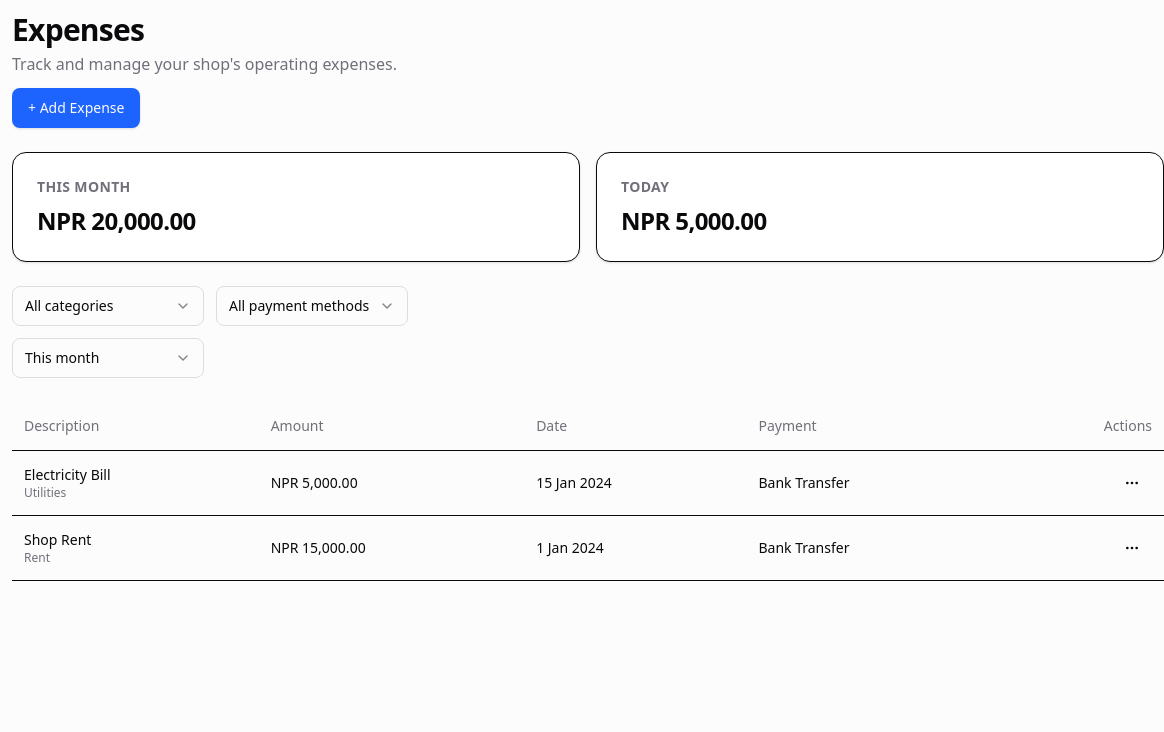
ExpensesPage › Clear Filters button appears when filters are active
The width and height of the screenshot is (1164, 732).
Expected: the text "Electricity Bill" is shown, [24, 464, 111, 484]
Click the dropdown named "Category" at [108, 306], box [12, 286, 204, 326]
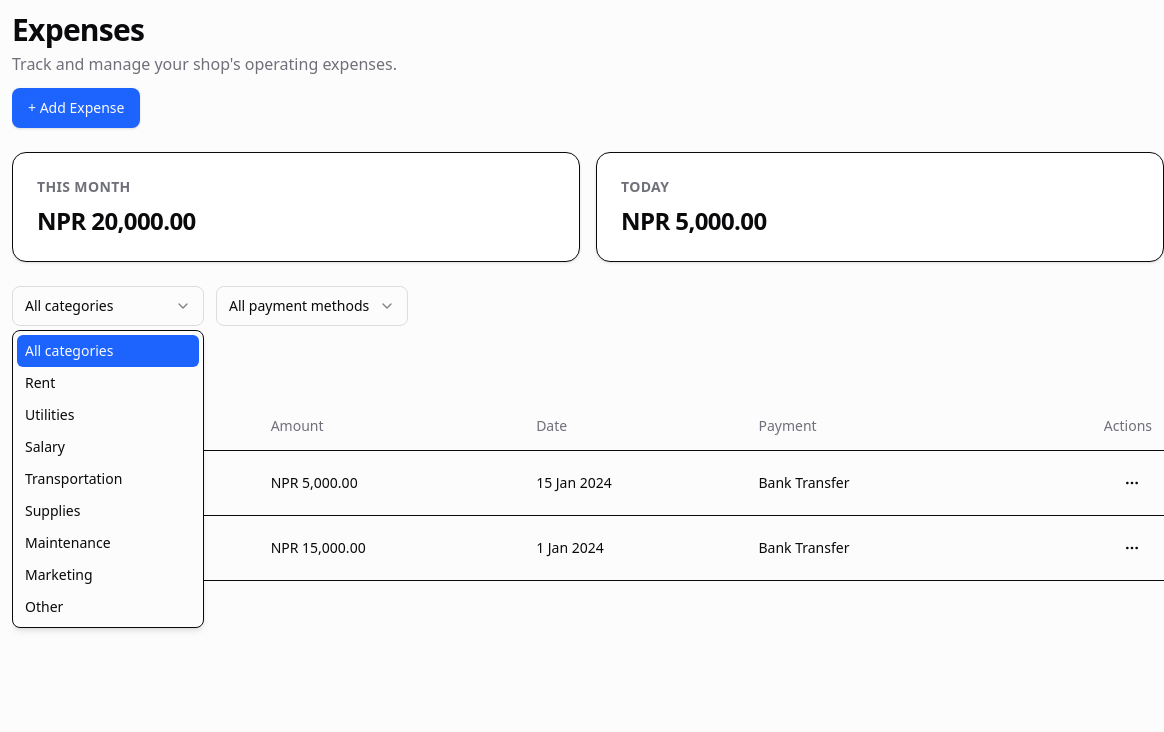
Click the option "Rent" at [108, 383], box [17, 367, 199, 399]
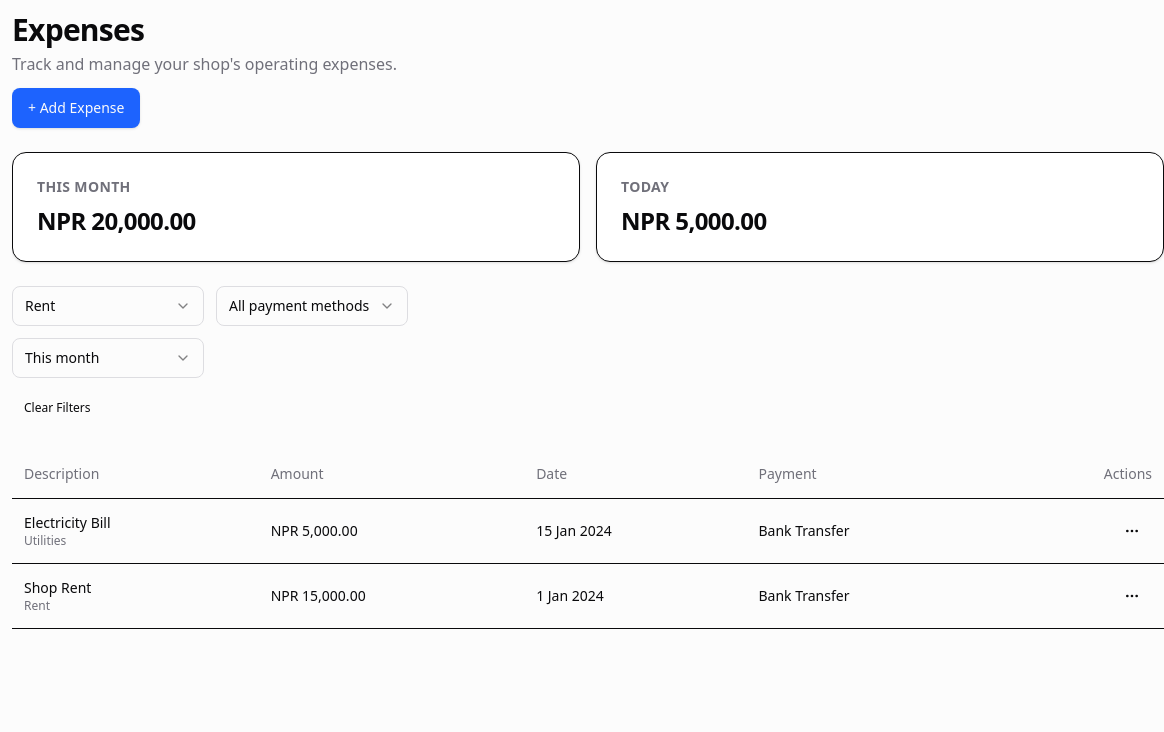
Result: the button "Clear Filters" is shown at [12, 390, 102, 426]
